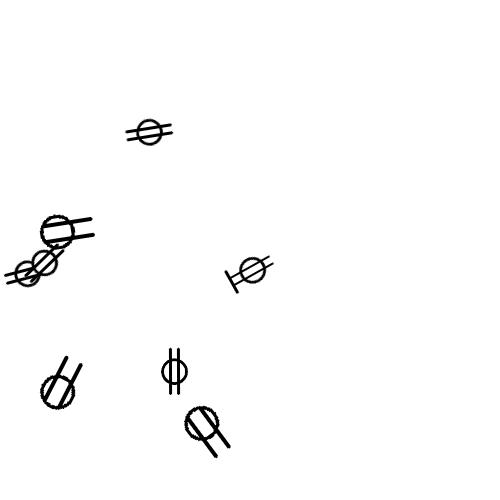Duplex-Receptacle: (36, 213, 95, 249), (32, 367, 91, 403), (177, 412, 236, 448), (225, 254, 277, 287), (122, 118, 175, 149), (2, 257, 55, 288), (18, 249, 71, 280), (147, 355, 200, 386)
